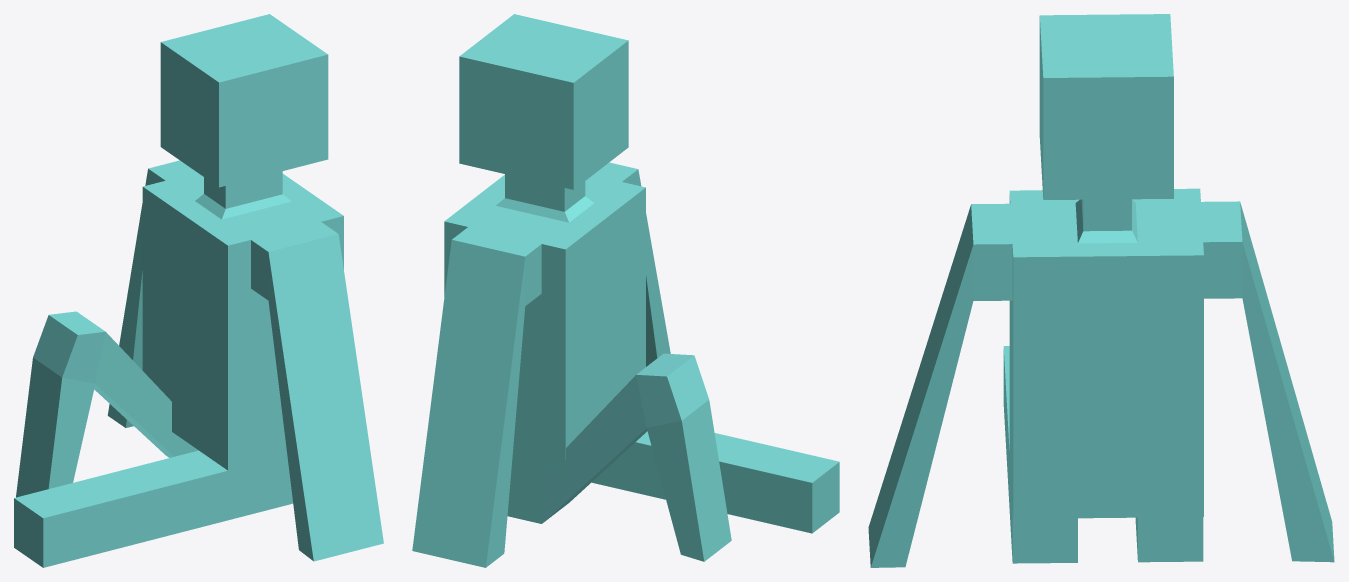
File: restNPC.fbx
3 renders of one model, left to right at view 1: azimuth 30°, elevation 25°; view 2: azimuth 150°, elevation 25°; view 3: azimuth 270°, elevation 25°, orthographic. The views are drawn at different scales.
Parts seen in each view (by area): view 1: NPC_Other; view 2: NPC_Other; view 3: NPC_Other.
Part boxes in pixels (x1,y1,x2,y2): NPC_Other: (14, 14, 383, 567); NPC_Other: (412, 14, 839, 567); NPC_Other: (868, 14, 1334, 567).
Size of the model in its own units: 207 by 279 by 235.
